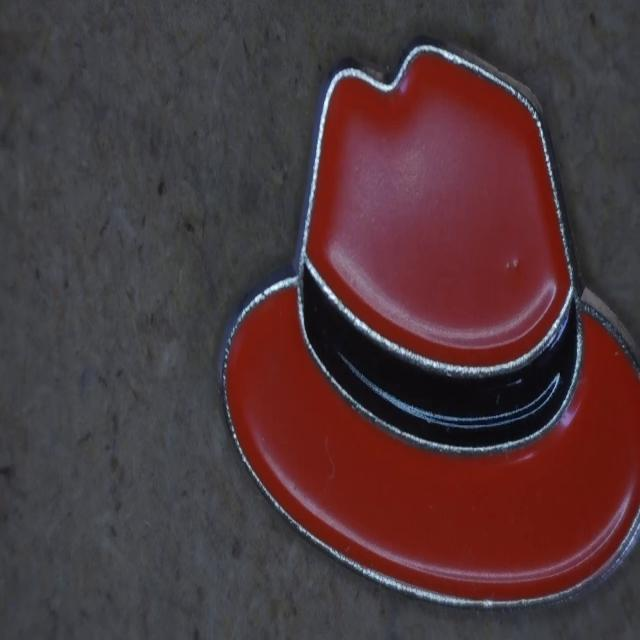Hatband: (300, 262, 580, 451)
RedHatPin: (221, 44, 640, 604)
